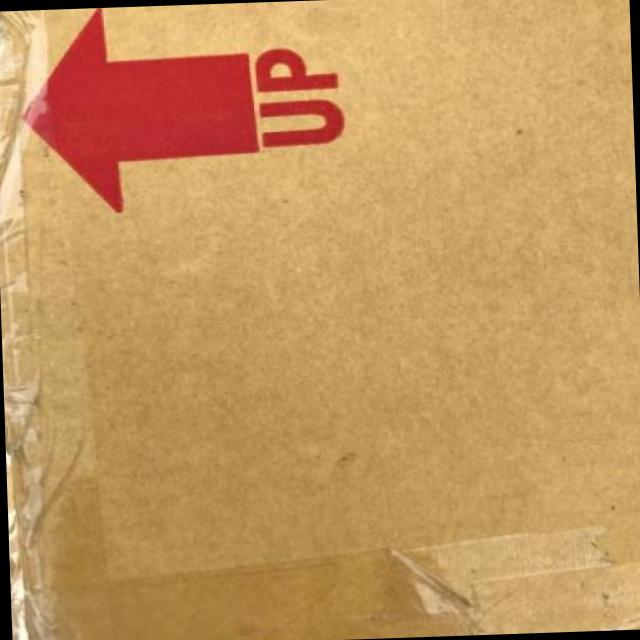cardboard paper: (24, 0, 640, 640)
